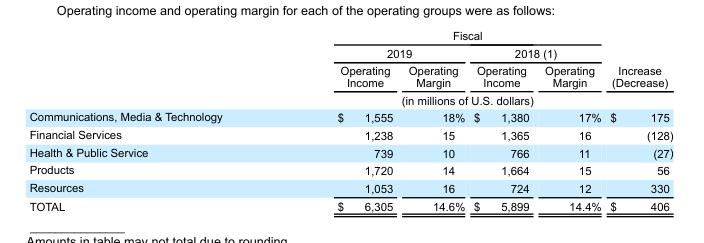table: (28, 28, 672, 211)
table column: (28, 28, 279, 211), (279, 28, 400, 211), (536, 28, 605, 211), (400, 28, 468, 211), (468, 28, 536, 211), (605, 28, 672, 211)
table column header: (28, 28, 672, 108)
table row: (28, 61, 672, 90), (28, 90, 672, 108), (28, 125, 672, 143), (28, 143, 672, 161), (28, 178, 672, 196), (28, 44, 672, 61), (28, 108, 672, 125), (28, 161, 672, 178), (28, 28, 672, 44), (28, 196, 672, 211)
table spanning cell: (279, 90, 605, 108), (605, 28, 672, 108), (279, 28, 605, 44), (279, 44, 468, 61), (468, 44, 605, 61)
